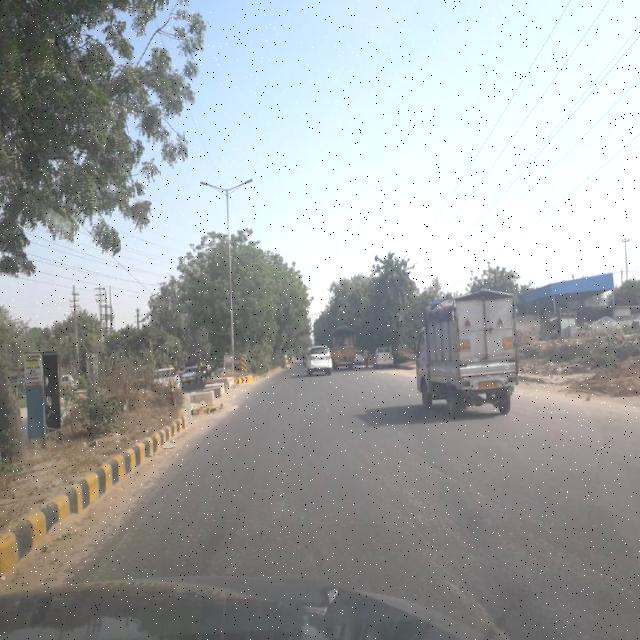D00: (402, 505, 508, 629)
